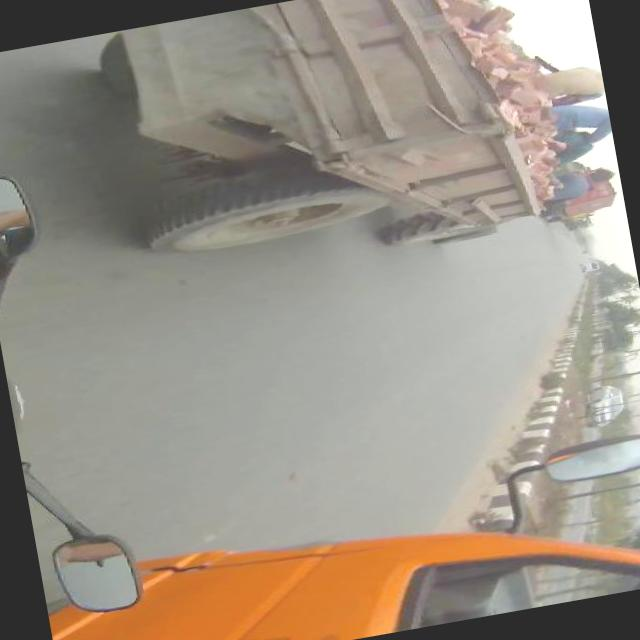car: (583, 381, 630, 428)
truck: (541, 188, 620, 224), (582, 258, 600, 270)
